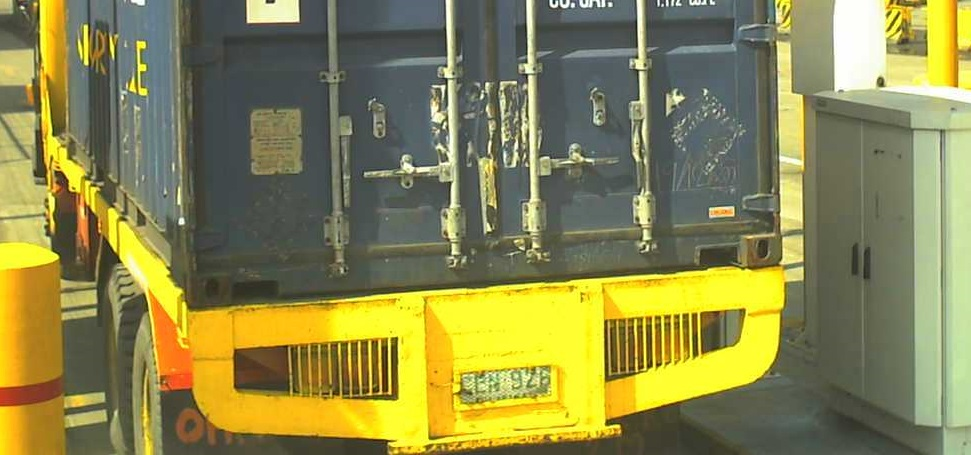container_door: (186, 1, 781, 316)
